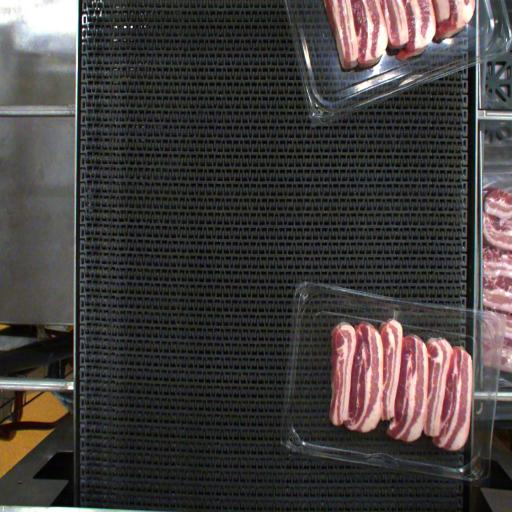packaging-error: (388, 304, 400, 322)
